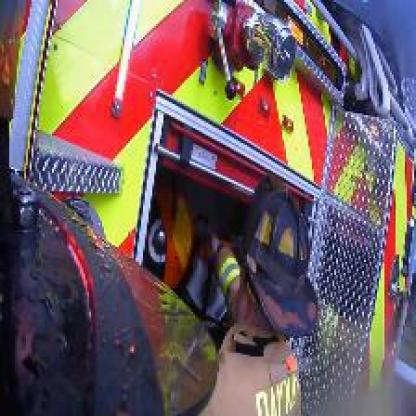other: (52, 1, 338, 166)
